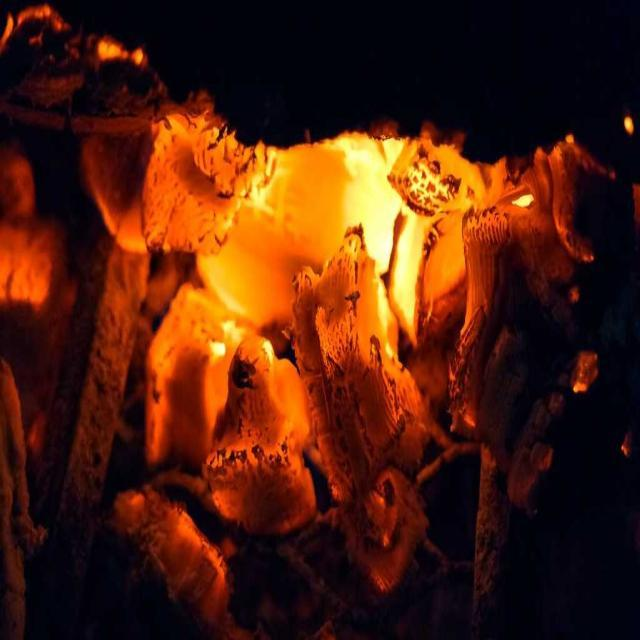Fire: (351, 151, 396, 253)
